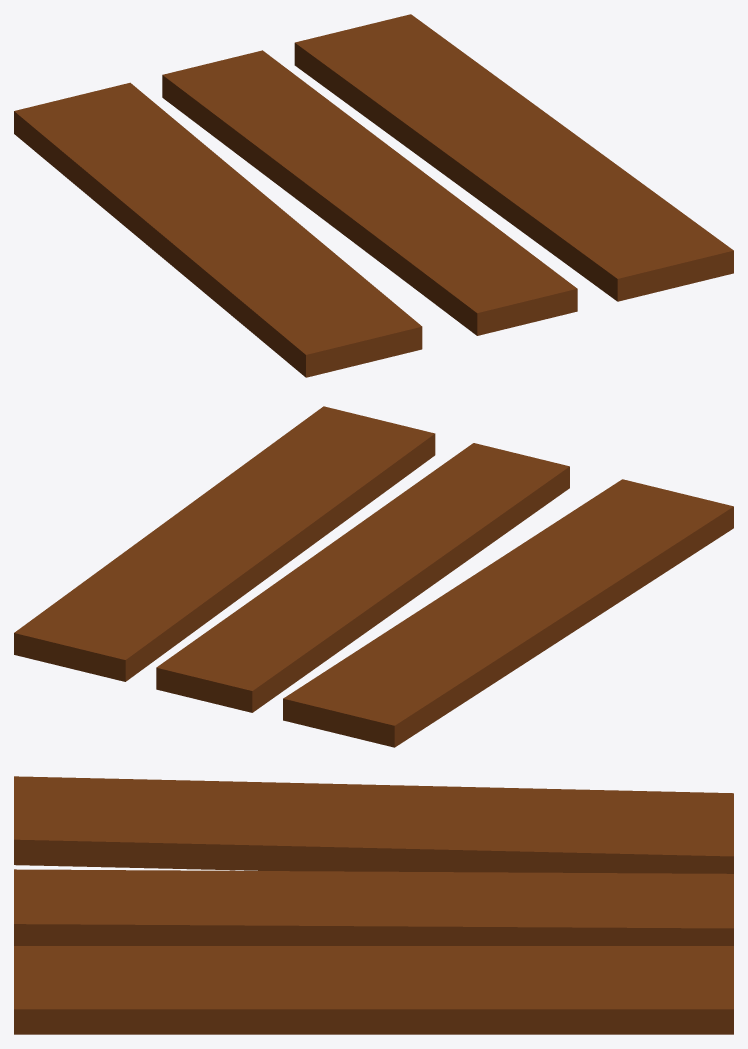
File: 1mForestFence1.fbx
The picture shows the model from 3 angles, top to bottom: view 1: azimuth 30°, elevation 25°; view 2: azimuth 150°, elevation 25°; view 3: azimuth 270°, elevation 25°; orthographic projection. The views are drawn at different scales.
Parts seen in each view (by area): view 1: 1mForestFence1; view 2: 1mForestFence1; view 3: 1mForestFence1.
Part boxes in pixels (bbox=[...]): 1mForestFence1: bbox=[14, 14, 733, 377]; 1mForestFence1: bbox=[14, 406, 733, 747]; 1mForestFence1: bbox=[14, 776, 733, 1034].
Bounding box in the file's own units: 76.5 × 3.9 × 100.
